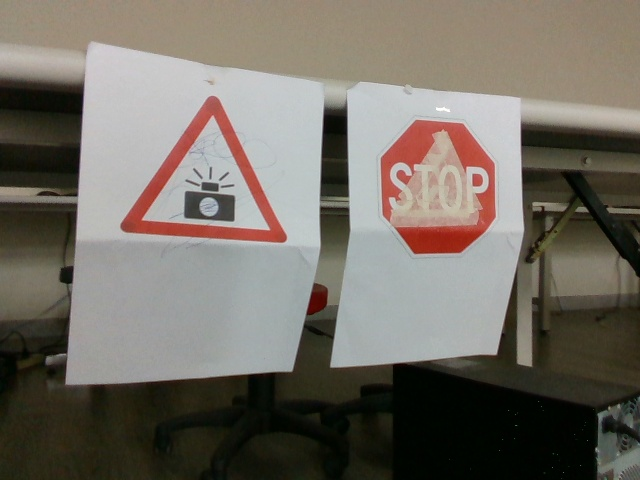camera: (128, 96, 286, 243)
stop: (386, 120, 497, 256)
